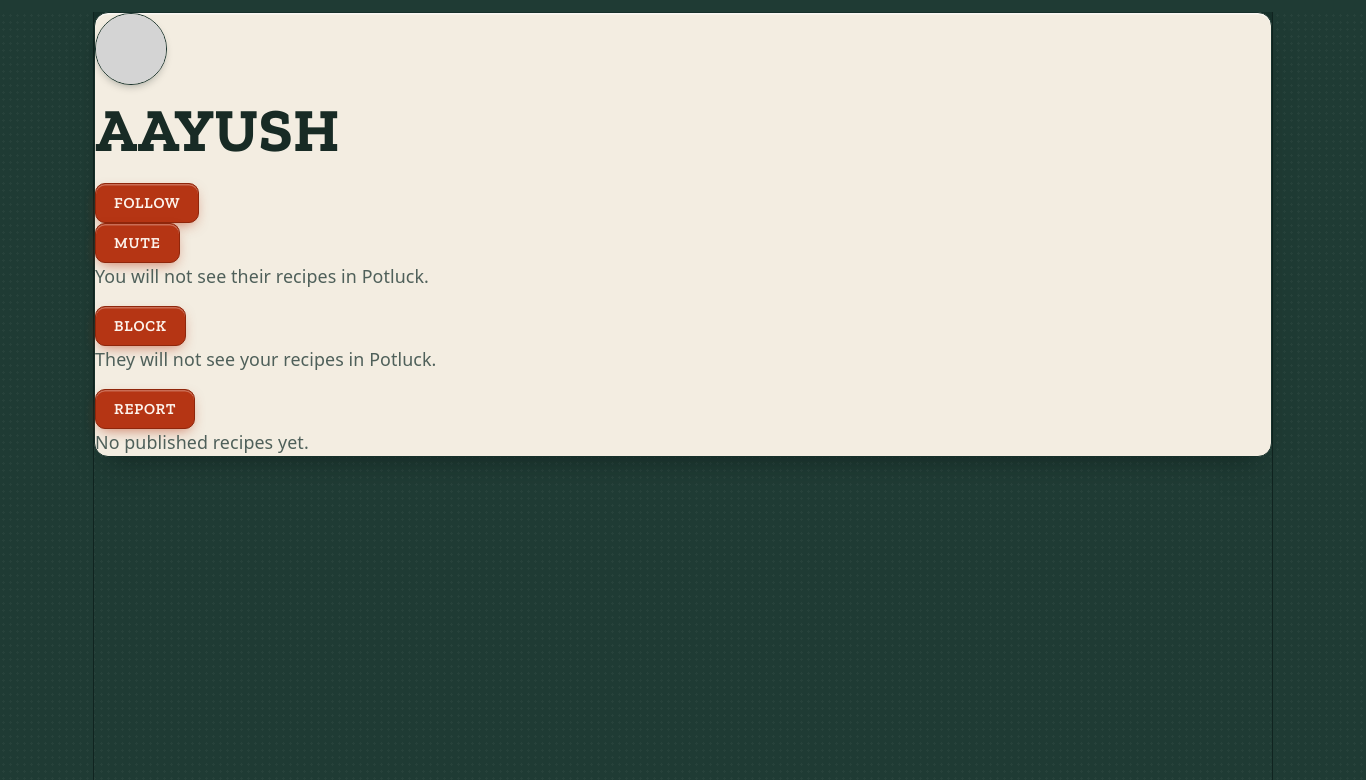
Test: reporting a cook sends the reason and the button reads Reported
Expected: the heading "Aayush" is shown, left=95, top=93, right=340, bottom=167
Step 1. Click the button "Report" → (145, 409), box left=95, top=389, right=195, bottom=429
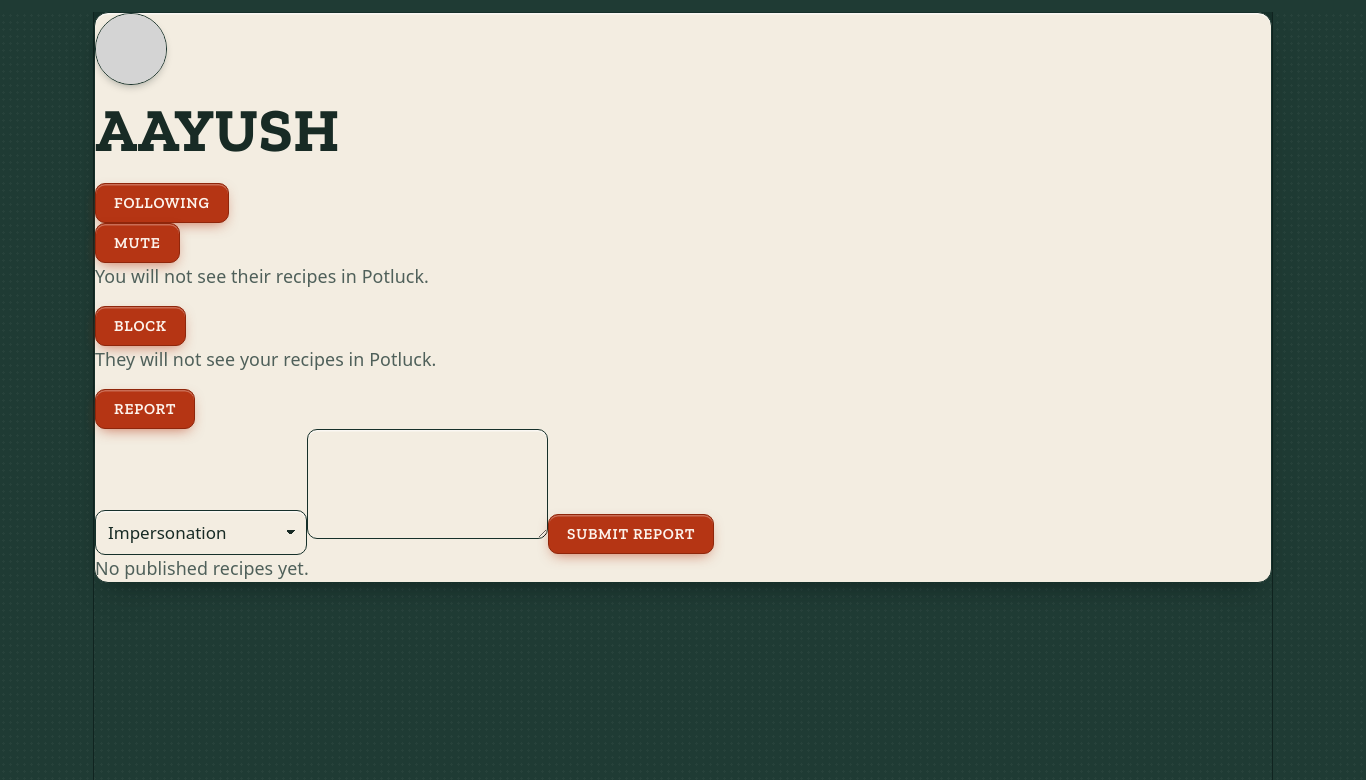
Step 2. Select "Impersonation" in the dropdown named "reason" → (201, 533), box left=95, top=510, right=307, bottom=555
Step 3. Type "not them" into the text box named "note" → (428, 484), box left=307, top=429, right=548, bottom=539
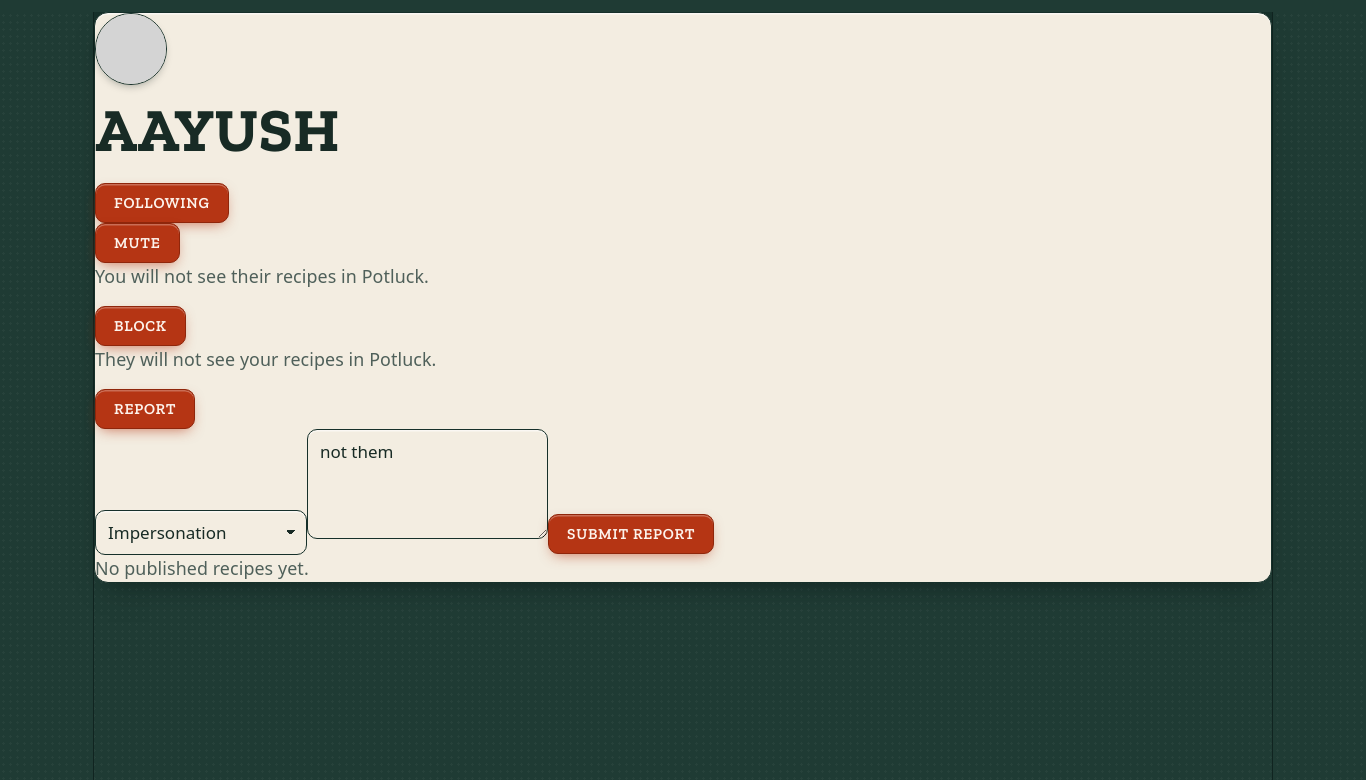
Step 4. Click the button "Submit report" → (631, 534), box left=548, top=514, right=714, bottom=554
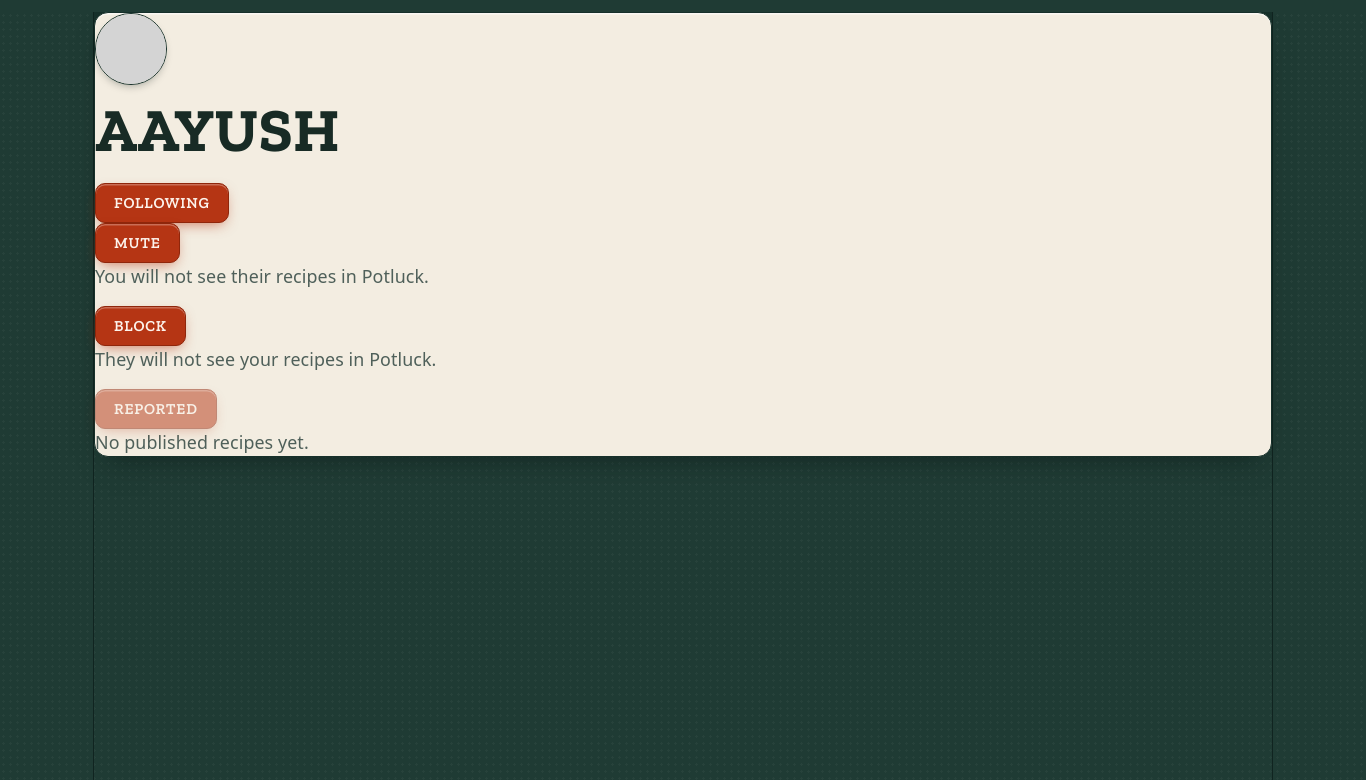
Now the button "Reported" is shown, box left=95, top=389, right=217, bottom=429
